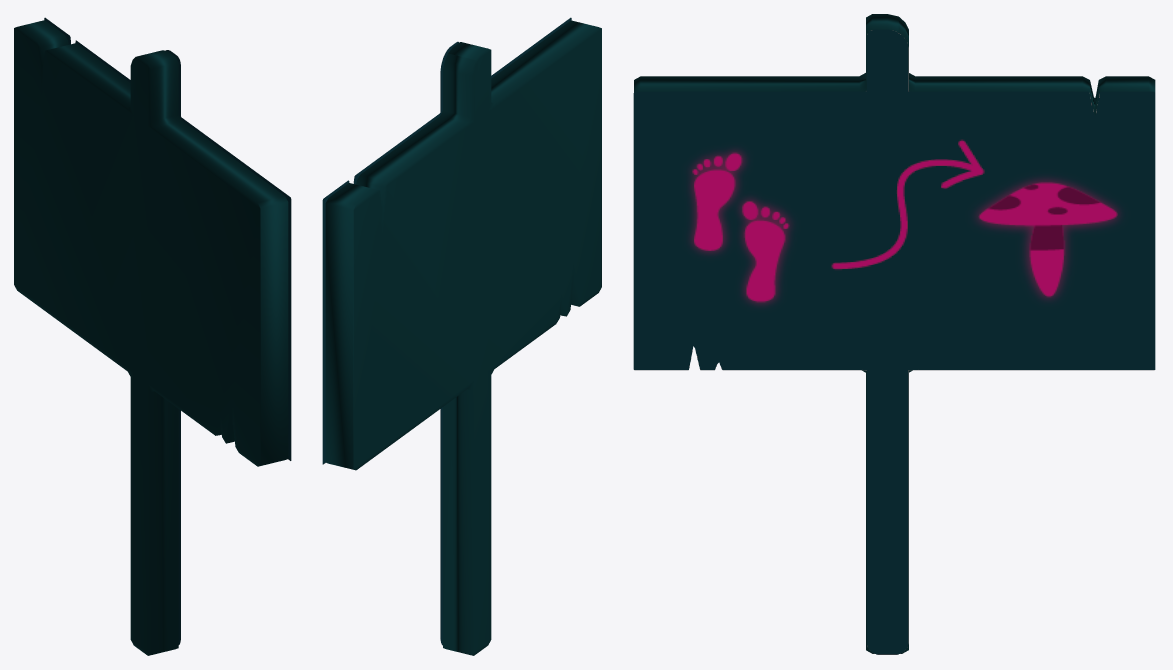
The model's file is Foot.fbx.
3 renders of one model, left to right at view 1: azimuth 30°, elevation 25°; view 2: azimuth 150°, elevation 25°; view 3: azimuth 270°, elevation 25°, orthographic. The views are drawn at different scales.
Visible parts, largest first — view 1: Cube, 2_D_Foot_UI; view 2: Cube, 2_D_Foot_UI; view 3: 2_D_Foot_UI, Cube.
Part boxes in pixels (left/top/right/bottom): Cube: left=14, top=20, right=288, bottom=655; 2_D_Foot_UI: left=44, top=17, right=291, bottom=644; Cube: left=325, top=20, right=601, bottom=655; 2_D_Foot_UI: left=322, top=17, right=571, bottom=645; 2_D_Foot_UI: left=633, top=29, right=1155, bottom=654; Cube: left=634, top=14, right=1155, bottom=653.
Bounding box in the file's own units: 0.0513 × 0.7264 × 0.9577.
